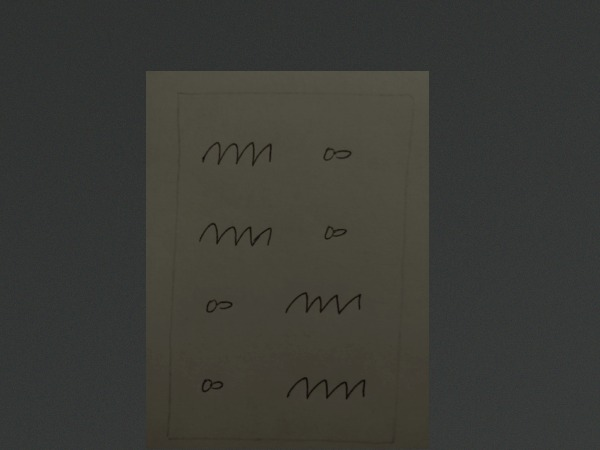switch: (196, 289, 241, 321), (316, 138, 360, 169), (318, 219, 359, 247), (195, 372, 231, 400)
text: (278, 366, 372, 411), (196, 214, 278, 253), (277, 286, 366, 320), (198, 136, 278, 171)
